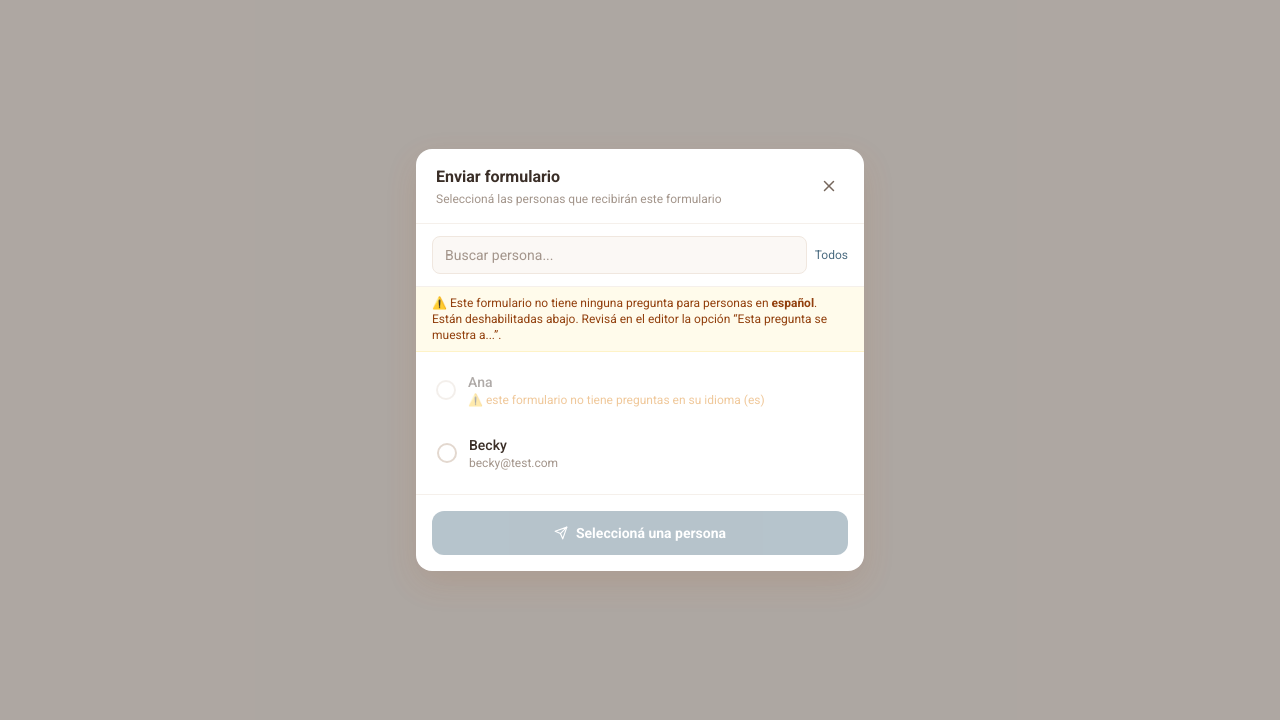
Test case: SendToStudentModal — formulario vacío para un idioma › "Todos" no selecciona a quien recibiría el formulario vacío
Check: the text "Ana" is shown, box [468, 374, 492, 390]
What coordinates should you click on to do the following:
click the button "Todos"
I would click on:
 (831, 255)
Its box is [815, 247, 848, 263].
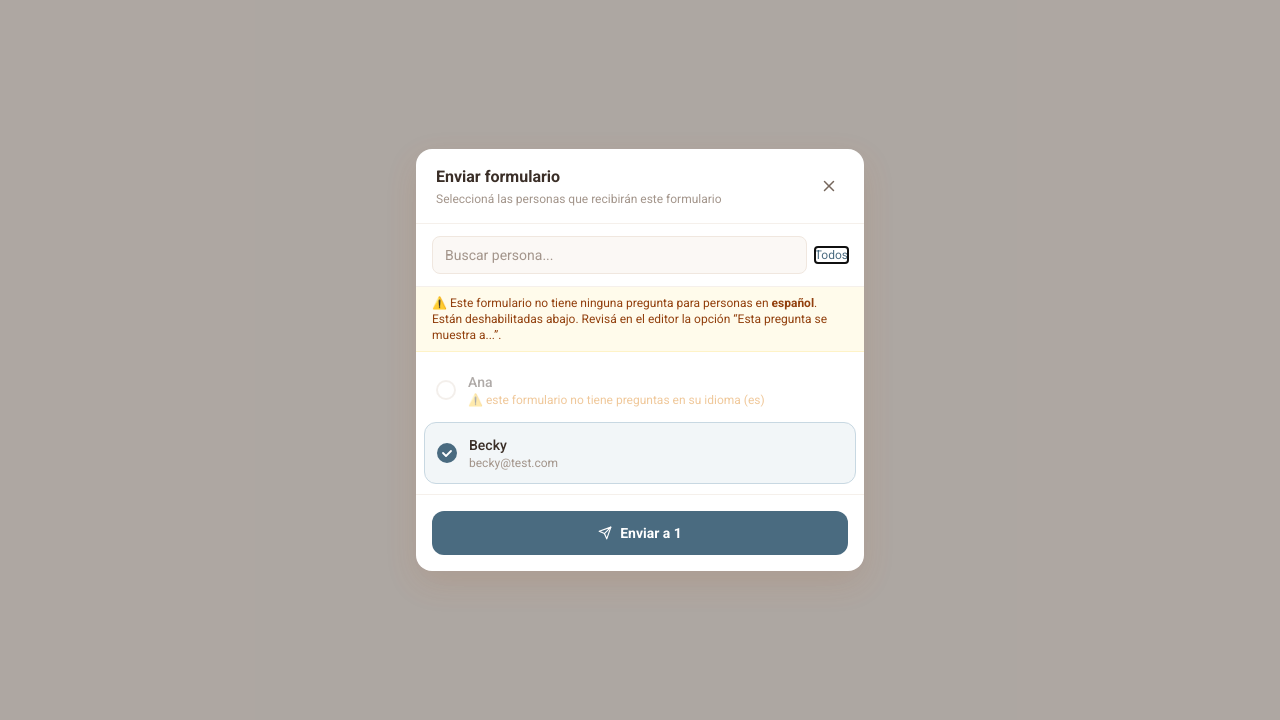
Check: the button "Enviar a 1" is shown, box [432, 511, 848, 555]
